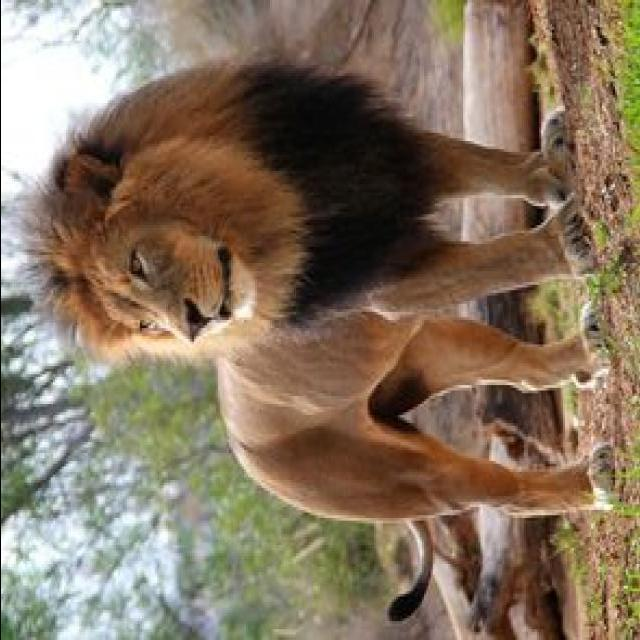lions: (0, 17, 640, 639)
